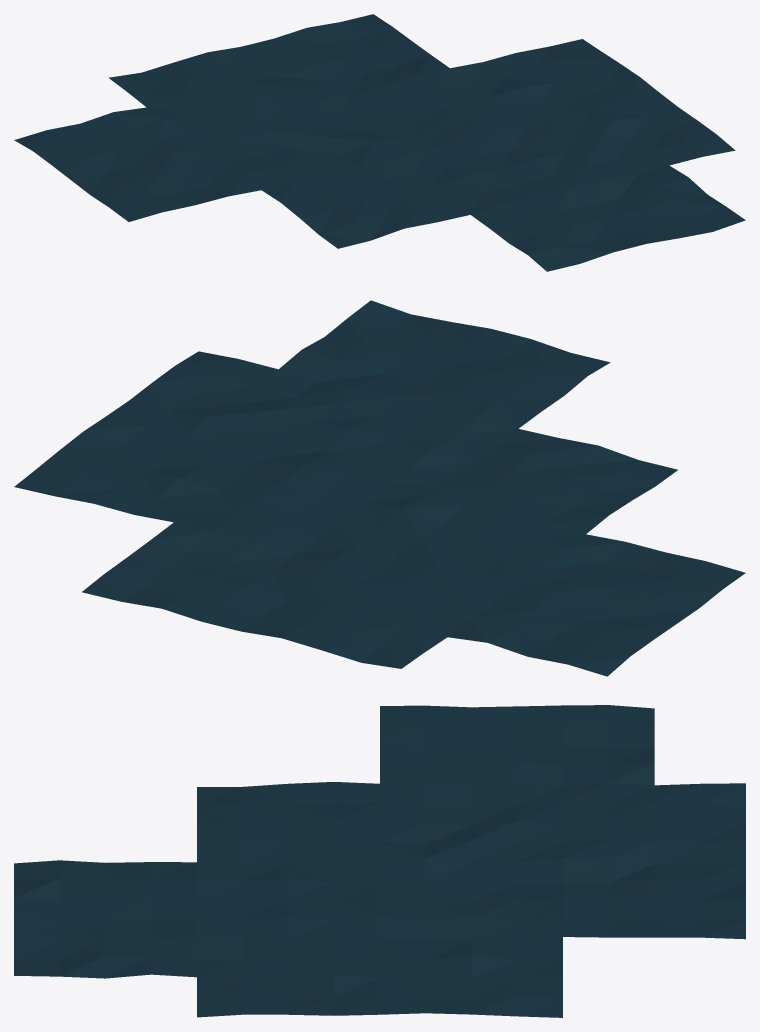
Rendered from ripples140006.obj.
The picture shows the model from 3 angles, top to bottom: view 1: azimuth 30°, elevation 25°; view 2: azimuth 150°, elevation 25°; view 3: azimuth 270°, elevation 25°; orthographic projection. The views are drawn at different scales.
Parts seen in each view (by area): view 1: Lake_ripples; view 2: Lake_ripples; view 3: Lake_ripples.
Boxes of the visible parts, left/top/right/bottom form: Lake_ripples: left=14, top=14, right=745, bottom=271; Lake_ripples: left=14, top=300, right=745, bottom=676; Lake_ripples: left=14, top=705, right=745, bottom=1017.
Size of the model in its own units: 20 by 0.1859 by 20.
